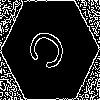C: (25, 25, 76, 79)
